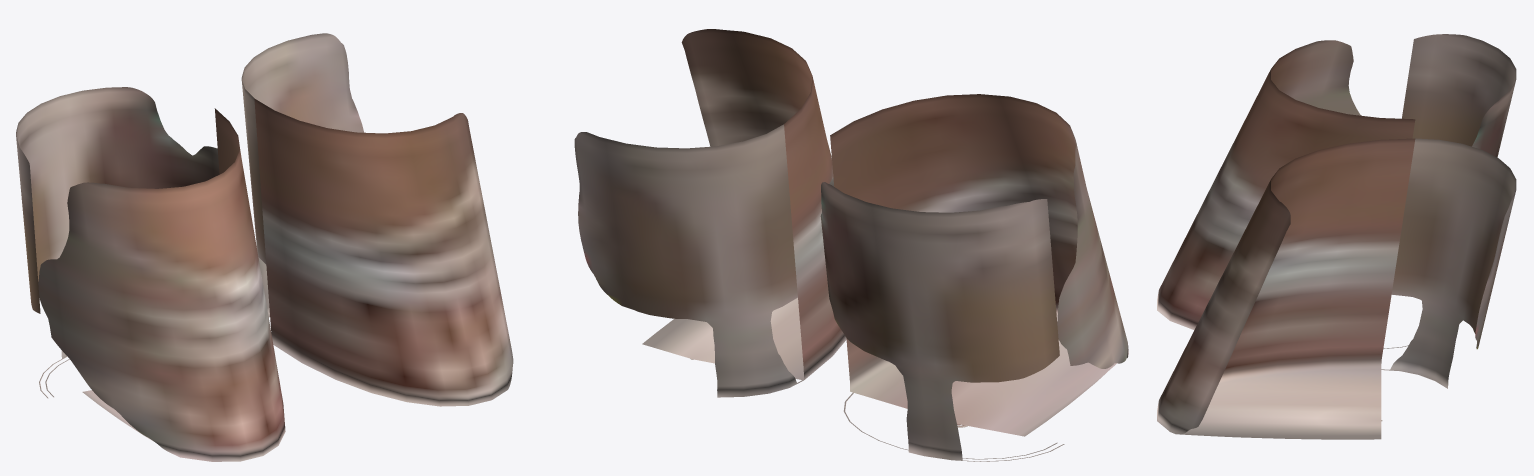
The model's file is prod-ae-gold-strappy-heels.glb.
The picture shows the model from 3 angles, left to right: view 1: azimuth 30°, elevation 25°; view 2: azimuth 150°, elevation 25°; view 3: azimuth 270°, elevation 25°; orthographic projection. The views are drawn at different scales.
Visible parts, largest first — view 1: prod-ae-gold-strappy-heels; view 2: prod-ae-gold-strappy-heels; view 3: prod-ae-gold-strappy-heels.
Part boxes in pixels (x1,y1,x2,y2): prod-ae-gold-strappy-heels: (16,33,513,461); prod-ae-gold-strappy-heels: (574,29,1128,461); prod-ae-gold-strappy-heels: (1157,34,1516,439).
Size of the model in its own units: 0.1694 by 0.0983 by 0.1287.
Materials: 1 (1 with a texture image).
